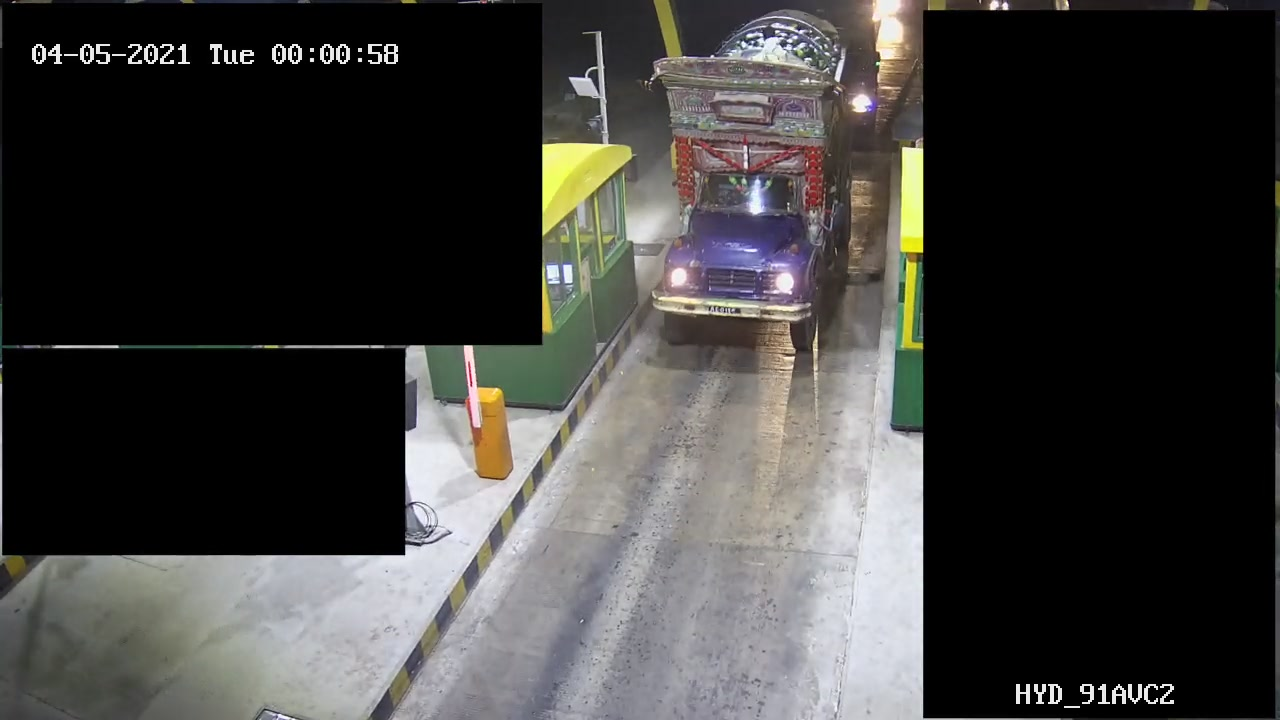F5: (648, 3, 850, 359)
